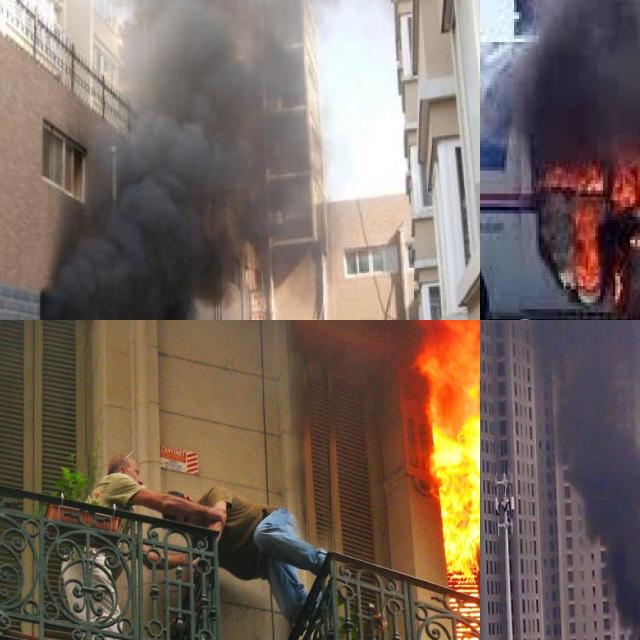fire: (526, 121, 640, 320), (411, 320, 480, 640)
smoke: (36, 0, 381, 320), (480, 320, 640, 640), (480, 0, 640, 154)
